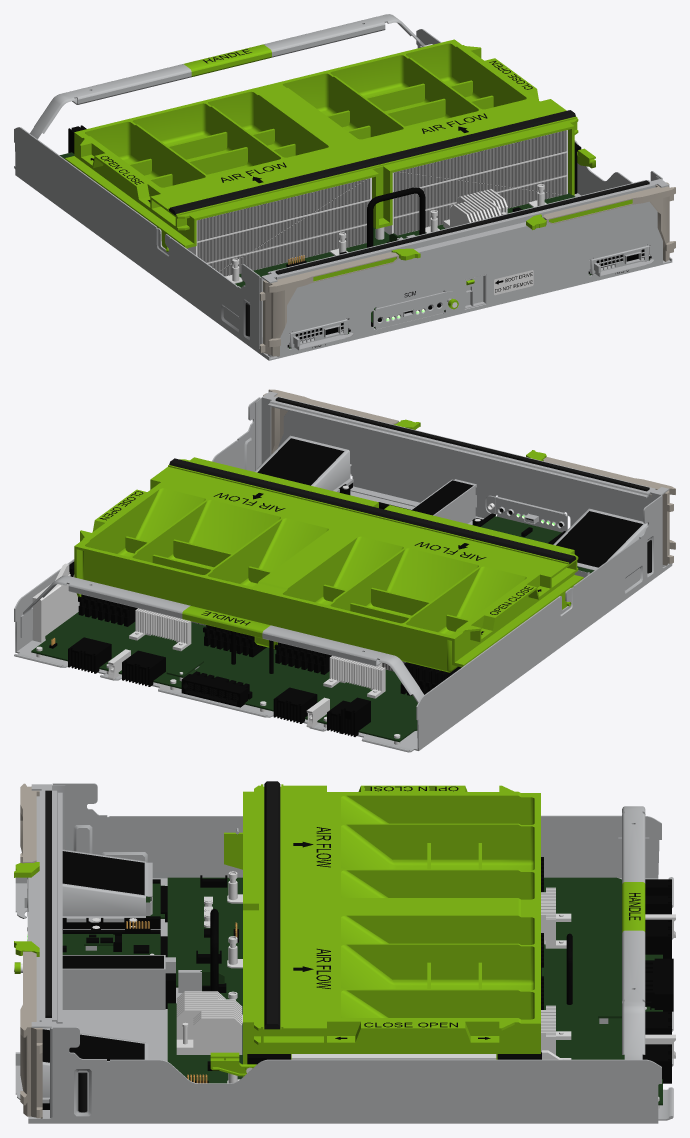
File: storm-point.glb
The picture shows the model from 3 angles, top to bottom: view 1: azimuth 30°, elevation 25°; view 2: azimuth 150°, elevation 25°; view 3: azimuth 270°, elevation 25°; orthographic projection. The views are drawn at different scales.
Parts seen in each view (by area): view 1: OCP_Grand Teton_Storm Point Merged; view 2: OCP_Grand Teton_Storm Point Merged; view 3: OCP_Grand Teton_Storm Point Merged.
Part boxes in pixels (left/top/right/bottom): OCP_Grand Teton_Storm Point Merged: left=14, top=14, right=675, bottom=360; OCP_Grand Teton_Storm Point Merged: left=14, top=389, right=675, bottom=752; OCP_Grand Teton_Storm Point Merged: left=14, top=781, right=675, bottom=1123.
Size of the model in its own units: 0.5141 by 0.0944 by 0.5747.
Materials: 14 (2 with a texture image).
